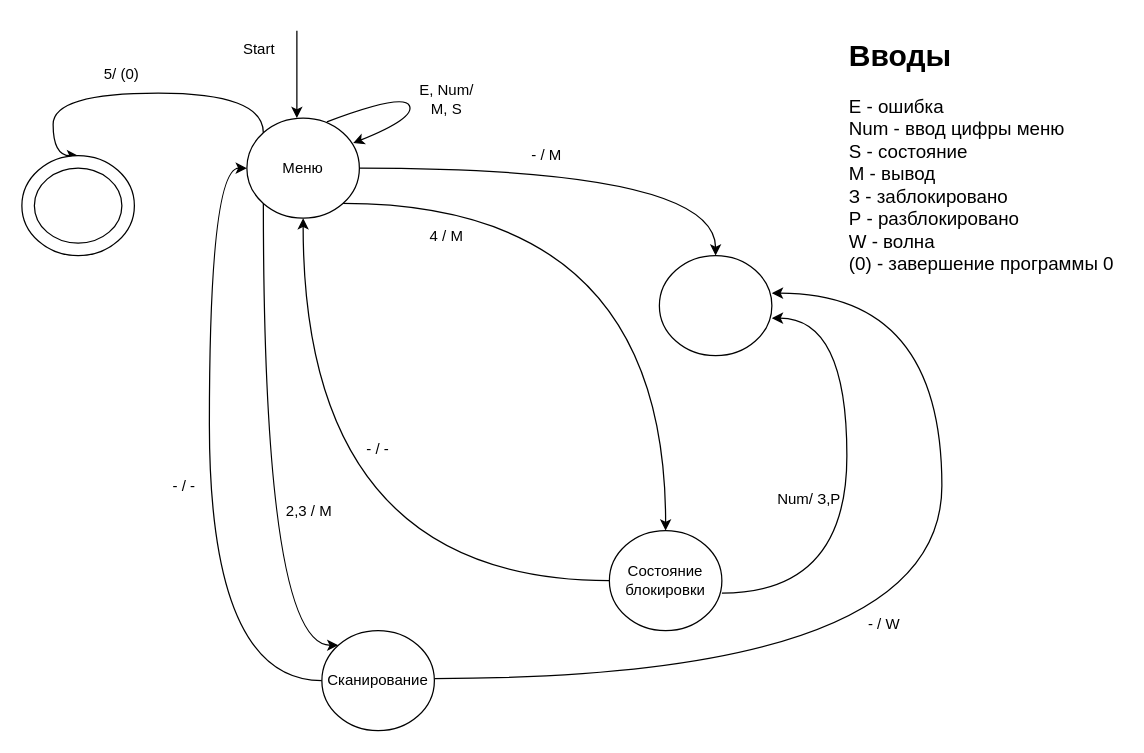
Some shapes in this 1144 by 753 pixel diagram are drawn without their labels. The centre of each missing label's shape, as x and y in pixels:
Выход: the point at 77,205
Состояние радио: the point at 715,305
